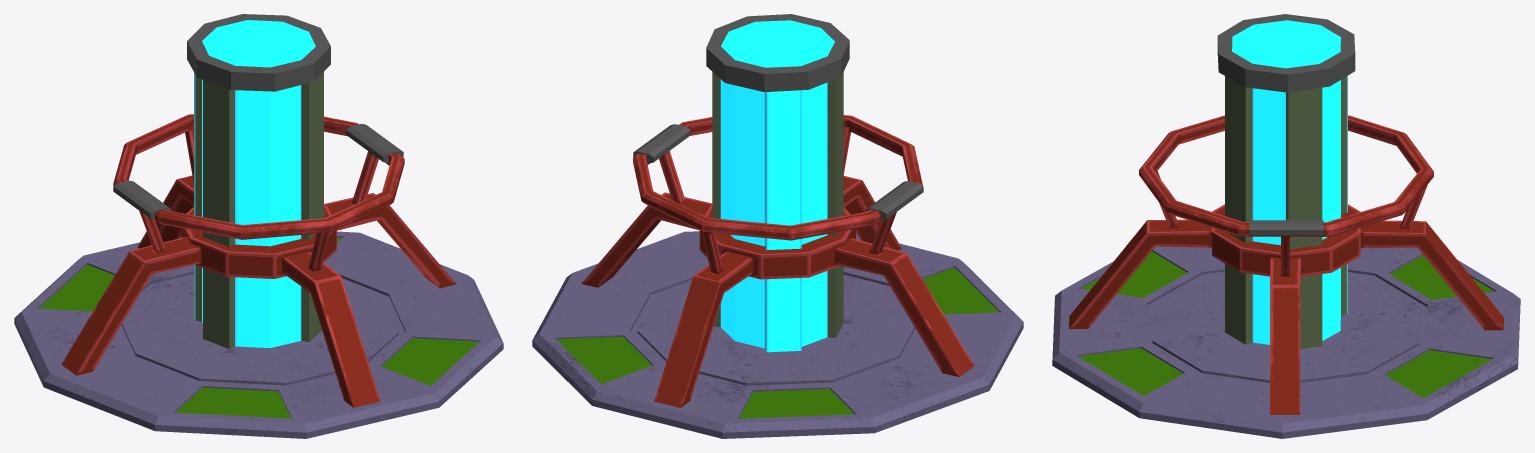
The model's file is Engineering Machine.fbx.
The picture shows the model from 3 angles, left to right: view 1: azimuth 30°, elevation 25°; view 2: azimuth 150°, elevation 25°; view 3: azimuth 270°, elevation 25°; orthographic projection.
Visible parts, largest first — view 1: Engineering Machine; view 2: Engineering Machine; view 3: Engineering Machine.
Boxes of the visible parts, <box> form: Engineering Machine: <box>14,14,503,438</box>; Engineering Machine: <box>532,14,1023,438</box>; Engineering Machine: <box>1052,14,1520,438</box>.
Bounding box in the file's own units: 348 × 230 × 333.
